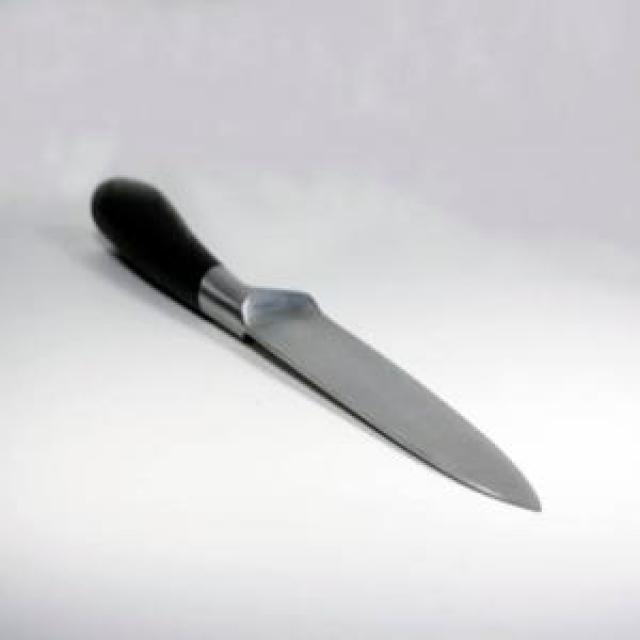knife: (88, 173, 552, 513)
